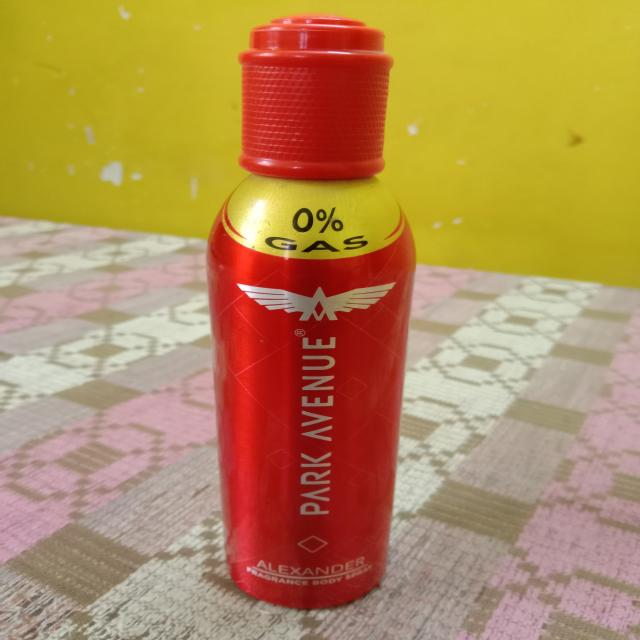deodorant: (211, 9, 437, 609)
